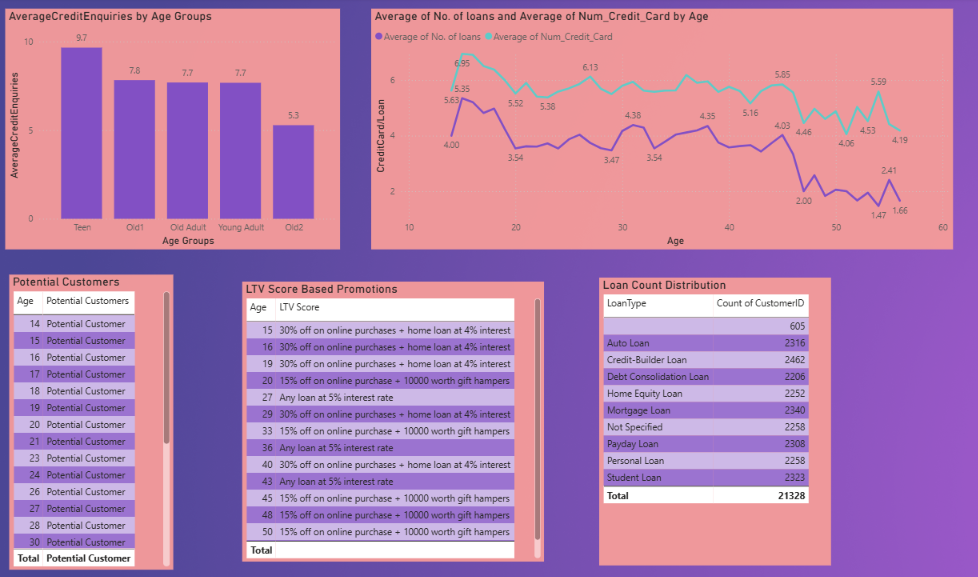

The page's visual inventory and layout, read from the dashboard file:
{"tool":"powerbi","page":{"name":"Page 2","canvas":[1400,1100],"ordinal":1},"visuals":[{"type":"columnChart","fields":{"Category":["df.Age Groups"],"Y":["Table.AverageCreditEnquiries"]},"box":[8.6,15.7,478.6,344.3],"z":0},{"type":"tableEx","title":"Potential Customers","fields":{"Values":["df.Age","Table.Potential Customers"]},"box":[8,400,210,622],"z":1000},{"type":"lineChart","fields":{"Category":["df.Age"],"Y":["Avg(df.No. of loans)","Avg(df.Num_Credit_Card)"]},"box":[532,16,746,344],"z":2000},{"type":"tableEx","title":"LTV Score Based Promotions","fields":{"Values":["df.Age","Table.LTV Score"]},"box":[262,400,398,452],"z":3000},{"type":"tableEx","title":"Loan Count Distribution","fields":{"Values":["LoanTypeTable.LoanType","LoanTypeTable.CustomerID"]},"box":[706,400,340,358],"z":4000}]}

Visuals, with their boxes on the page's 1400x1100 design canvas (x1, y1, x2, y2). These are canvas units, not pixel positions in the 978x577 screenshot, which may show the page scaled, cropped or inside an application window:
columnChart - df.Age Groups x Table.AverageCreditEnquiries: [9,16,487,360]
"Potential Customers" tableEx: [8,400,218,1022]
lineChart - df.Age x Avg(df.No. of loans): [532,16,1278,360]
"LTV Score Based Promotions" tableEx: [262,400,660,852]
"Loan Count Distribution" tableEx: [706,400,1046,758]
